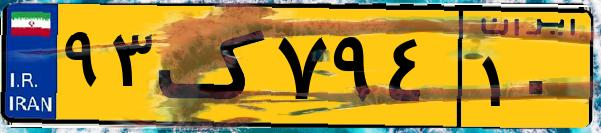0: (525, 38, 570, 115)
1: (475, 38, 525, 113)
3: (110, 28, 158, 98)
4: (385, 28, 445, 110)
7: (270, 28, 330, 110)
9: (330, 28, 385, 110), (57, 26, 110, 100)
ک: (158, 12, 270, 120)
